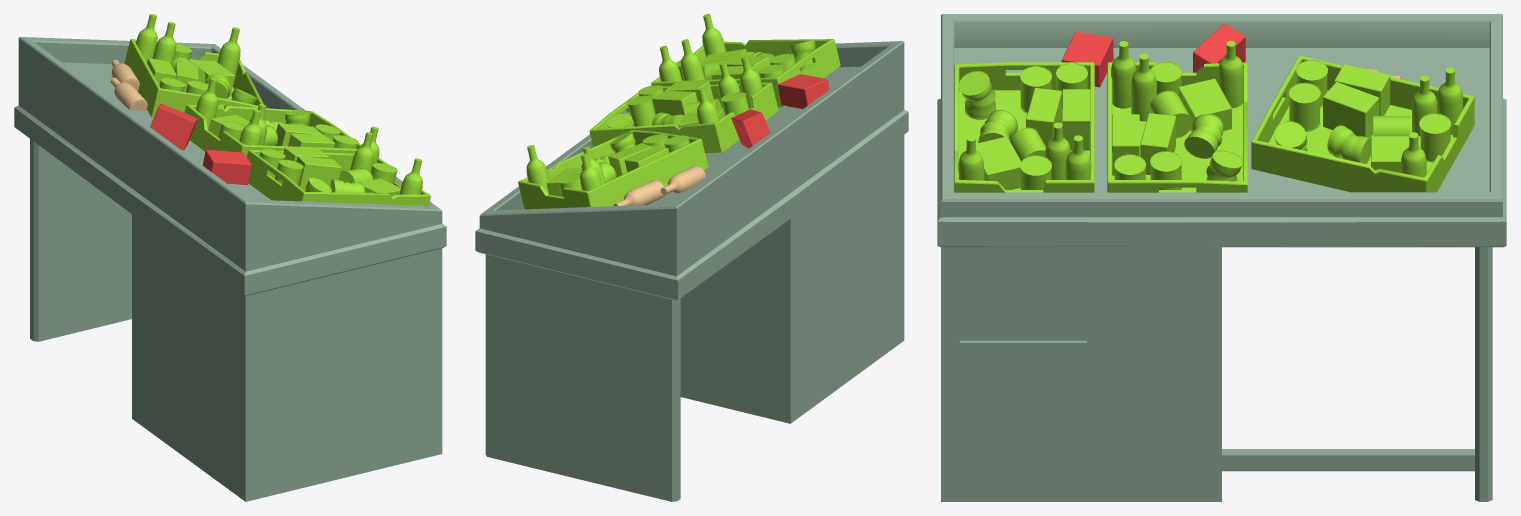
File: stand2.FBX
3 views of the same model, side by side, from view 1: azimuth 30°, elevation 25°; view 2: azimuth 150°, elevation 25°; view 3: azimuth 270°, elevation 25° (orthographic). The views are drawn at different scales.
Visible parts, largest first — view 1: presentoire002; view 2: presentoire002; view 3: presentoire002.
Boxes of the visible parts, x1=… form: presentoire002: x1=14, y1=14, x2=446, y2=501; presentoire002: x1=475, y1=14, x2=908, y2=501; presentoire002: x1=937, y1=14, x2=1506, y2=501.
Bounding box in the file's own units: 62.28 × 92.38 × 122.
